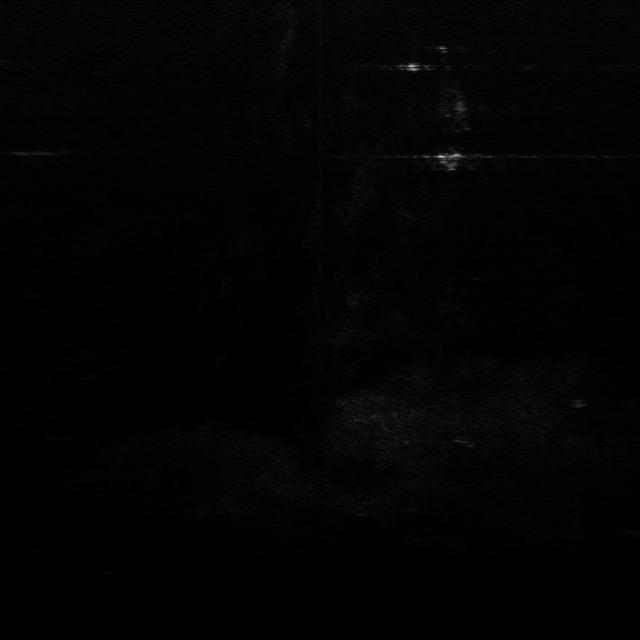rov: (433, 148, 468, 174)
